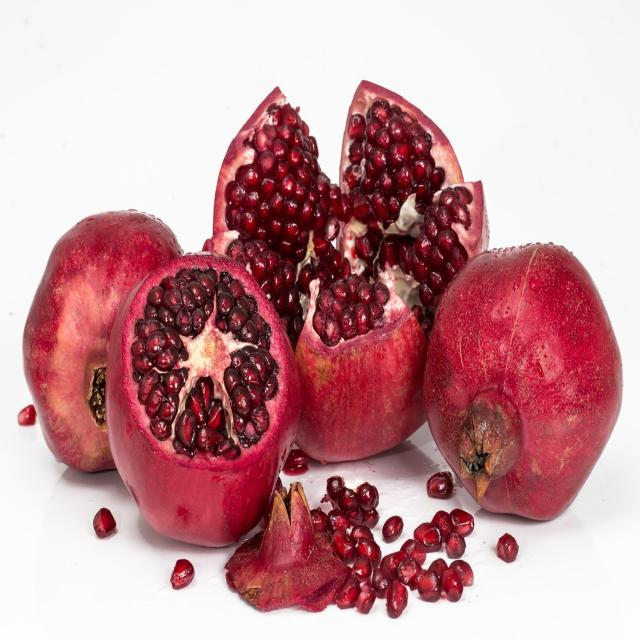Pomegranate: (205, 81, 489, 462), (106, 253, 300, 546), (424, 244, 622, 519), (22, 210, 181, 472), (311, 476, 475, 618), (428, 472, 454, 499), (498, 534, 519, 562)
